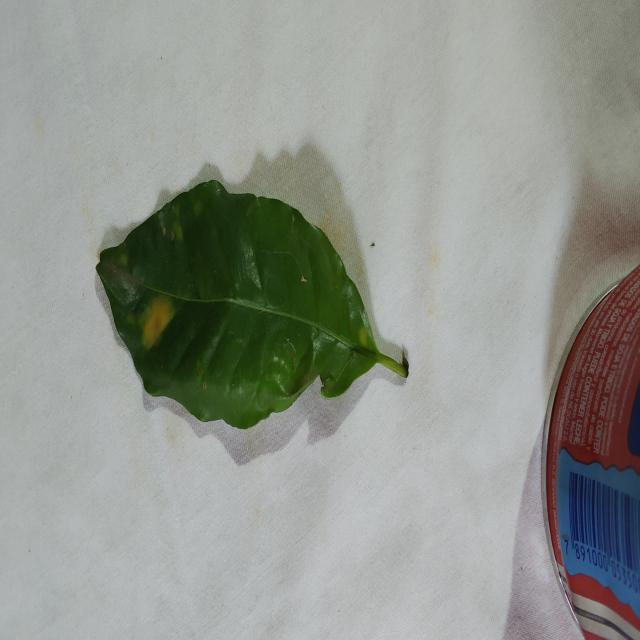Enfermedad-Roya: (94, 179, 409, 433)
